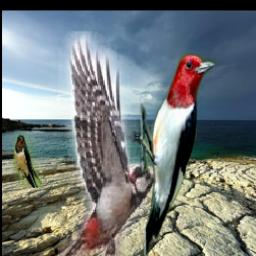Swallow: (13, 134, 42, 188)
Woodpecker: (59, 32, 164, 256), (131, 54, 216, 256)
